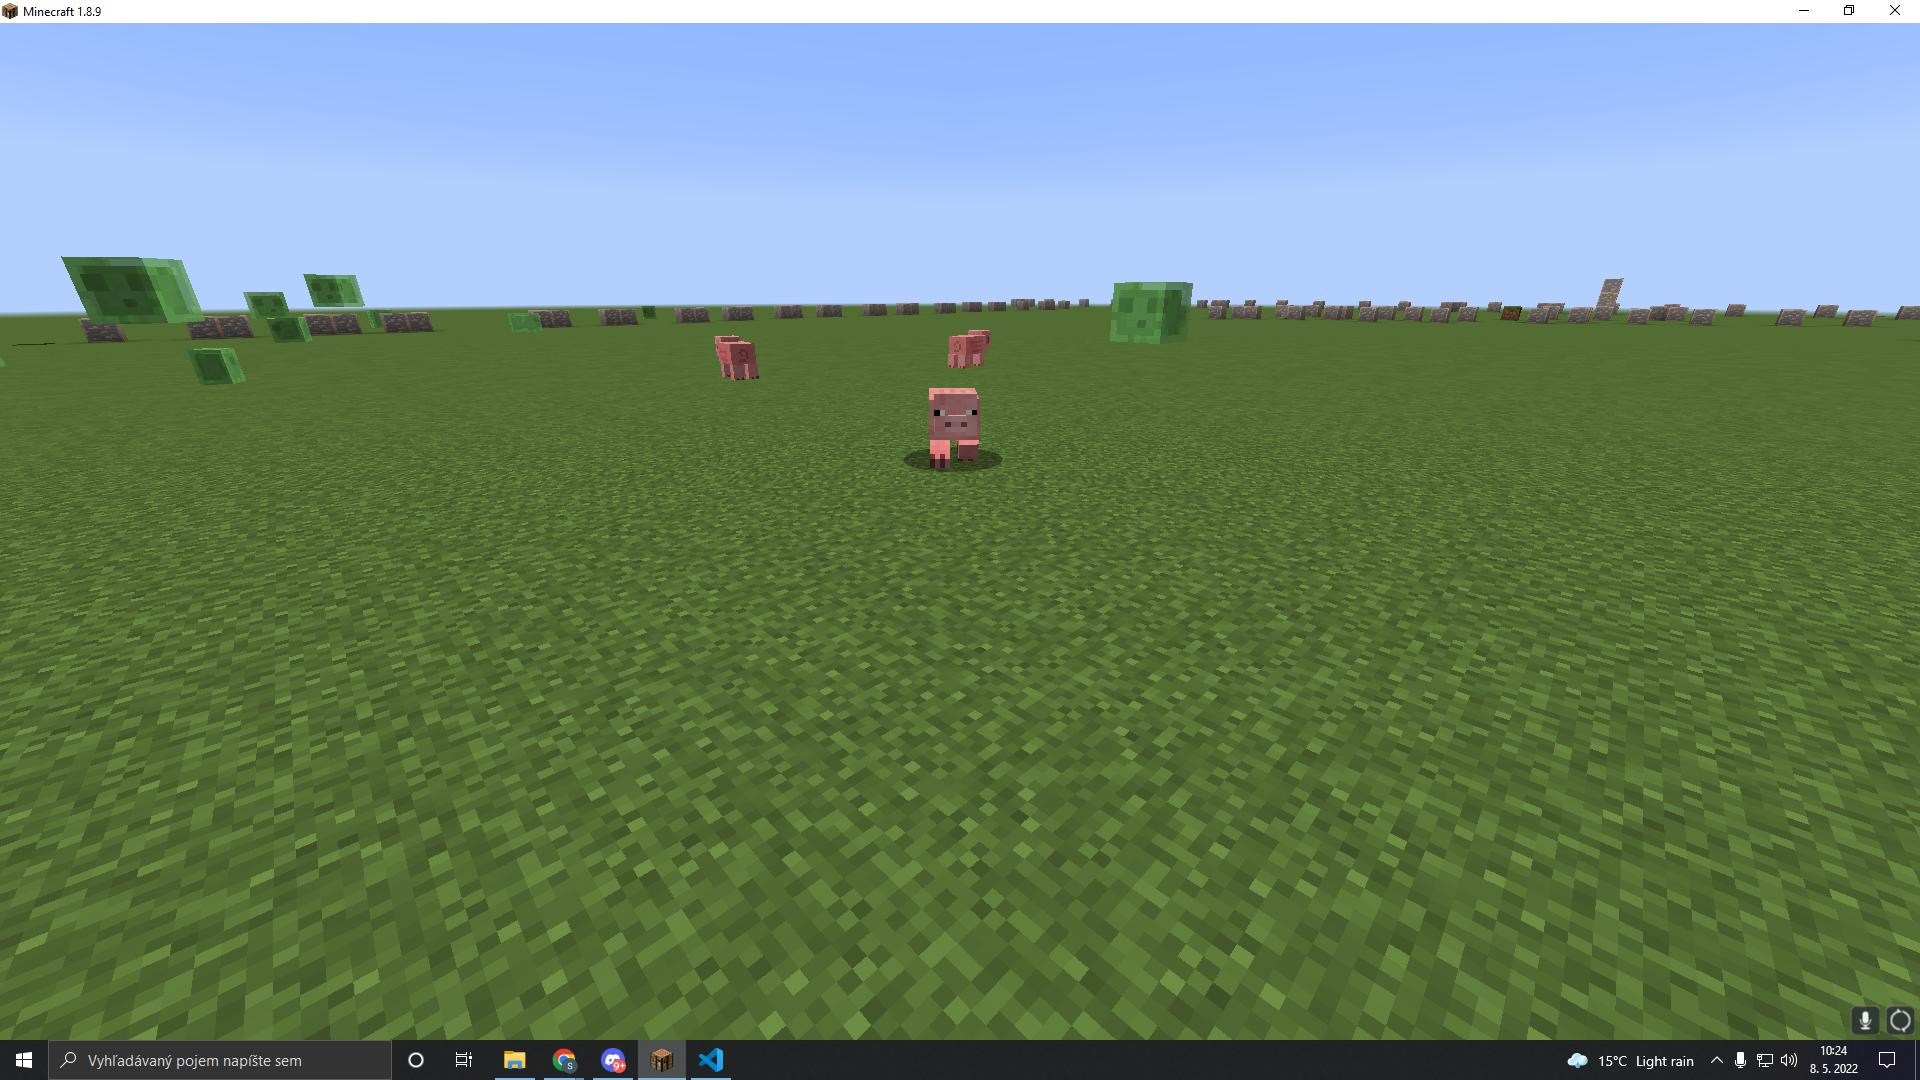pig: (920, 381, 992, 479), (711, 330, 767, 386), (940, 323, 997, 371)
